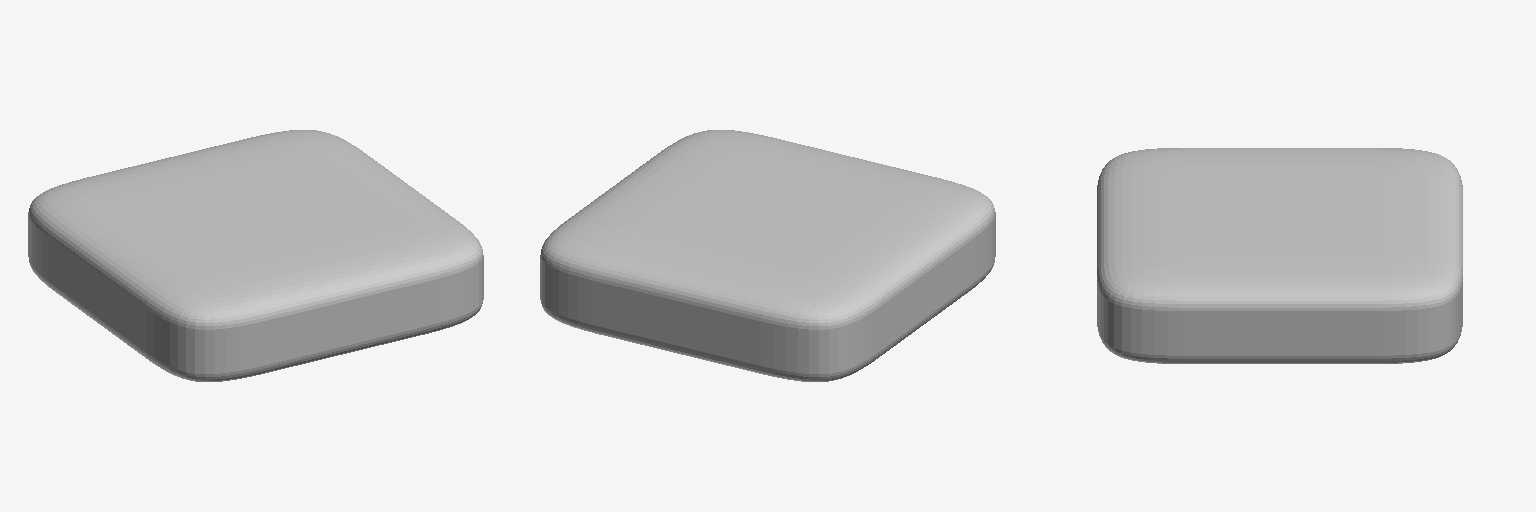
File: Chain Link Base.obj
The picture shows the model from 3 angles: view 1: azimuth 30°, elevation 25°; view 2: azimuth 150°, elevation 25°; view 3: azimuth 270°, elevation 25°; orthographic projection.
Parts seen in each view (by area): view 1: Note_Base; view 2: Note_Base; view 3: Note_Base.
Boxes of the visible parts, x1=… form: Note_Base: x1=28, y1=130, x2=483, y2=381; Note_Base: x1=540, y1=130, x2=995, y2=381; Note_Base: x1=1097, y1=148, x2=1462, y2=363.
Size of the model in its own units: 0.4988 by 0.1247 by 0.4988.